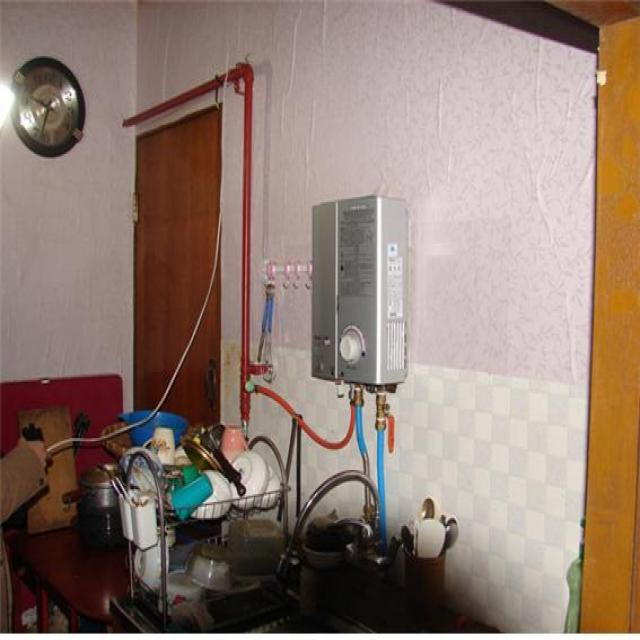Boiler: (292, 163, 426, 404)
